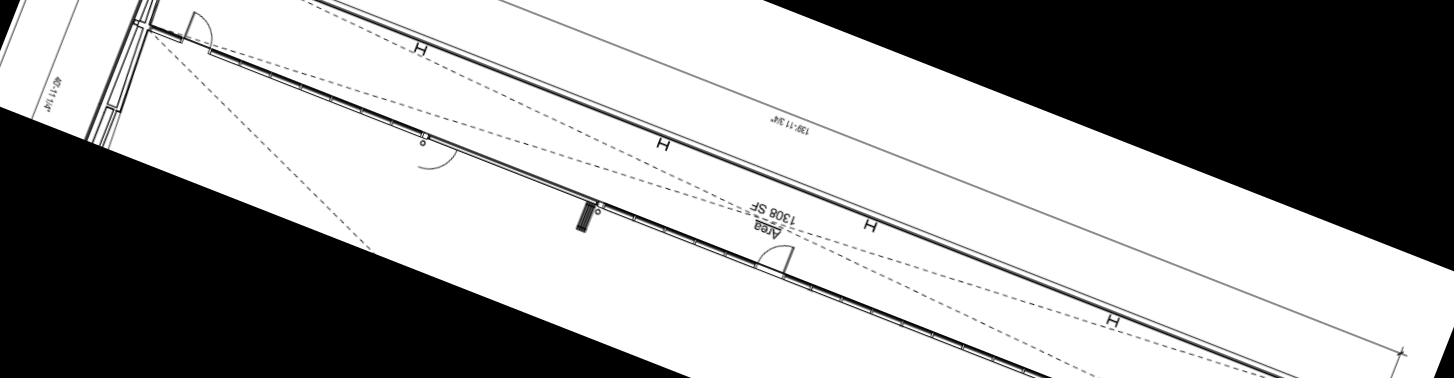door: (173, 5, 226, 61), (750, 233, 799, 283)
